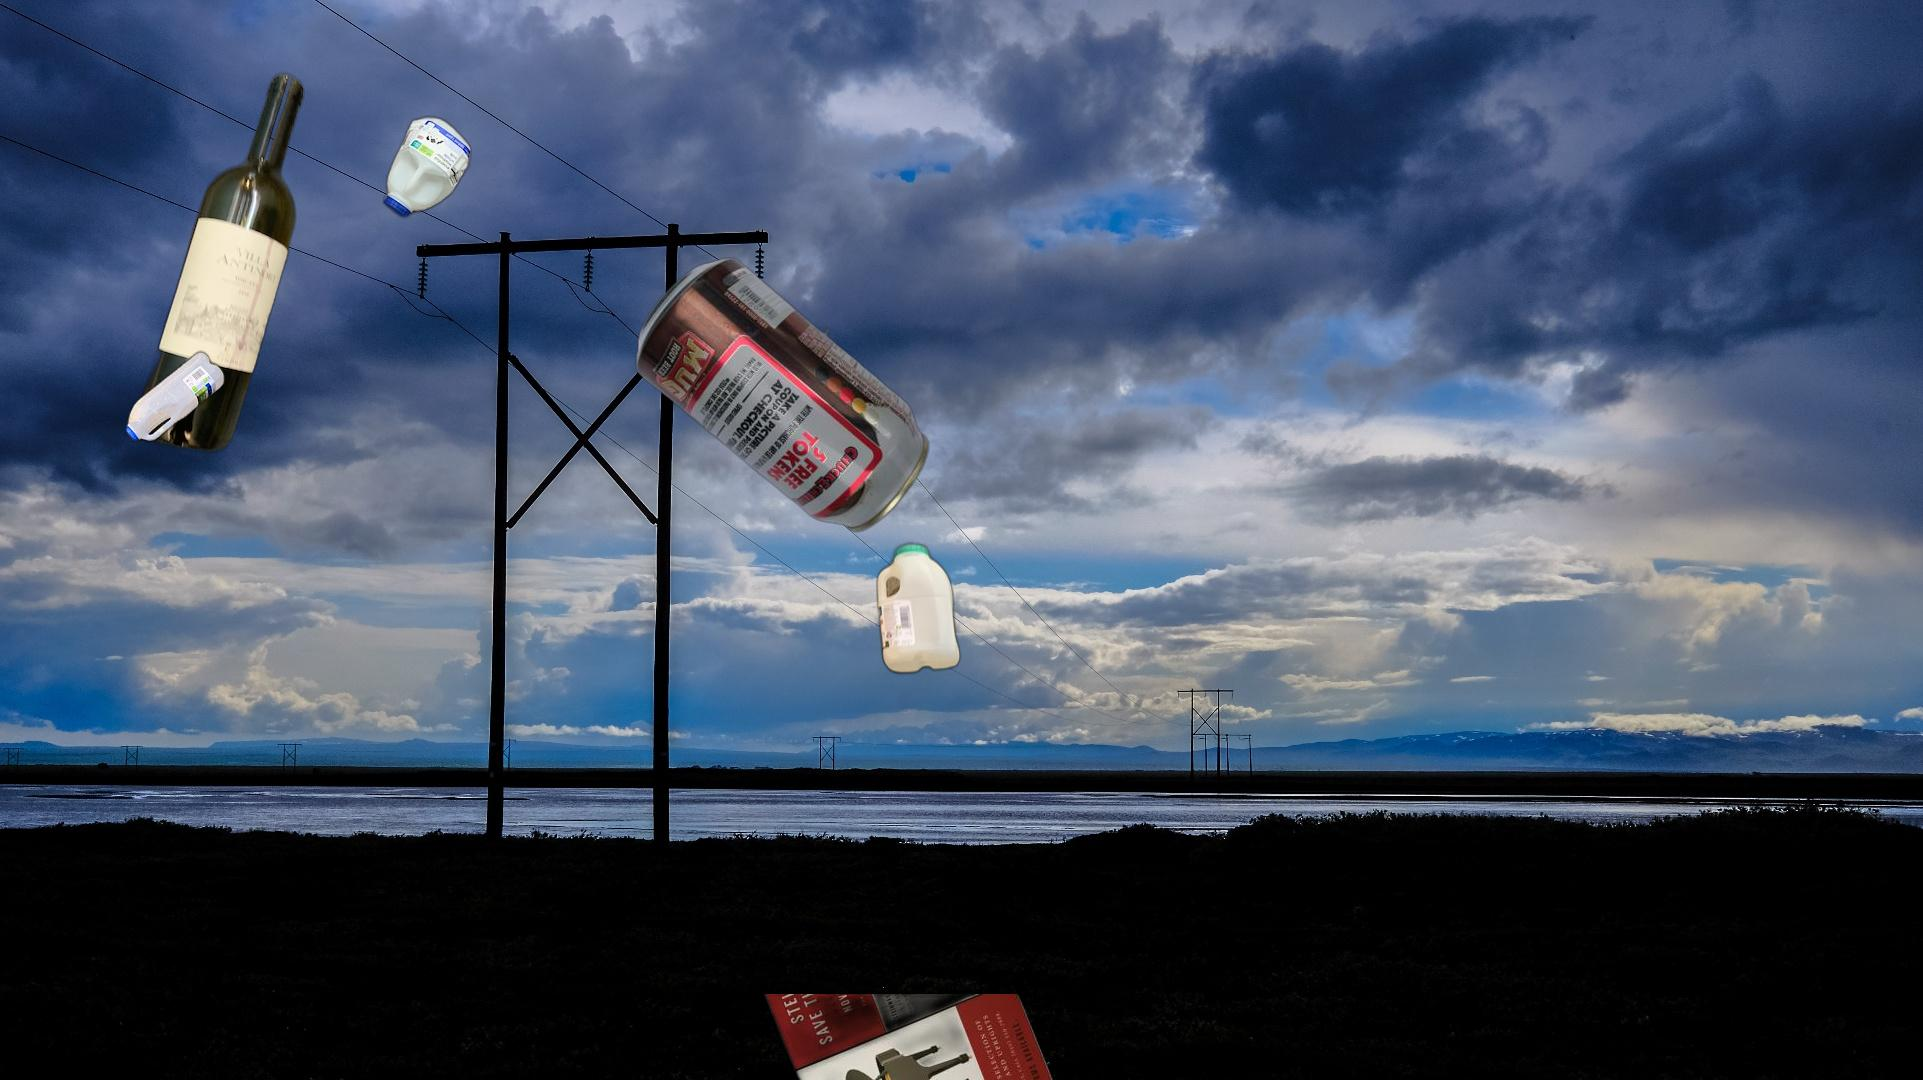glass: (131, 67, 308, 457)
metal-cans: (631, 255, 932, 535)
paper: (748, 994, 1127, 1080)
plastic-bottles: (872, 537, 965, 724), (378, 111, 475, 223), (122, 346, 228, 448)
